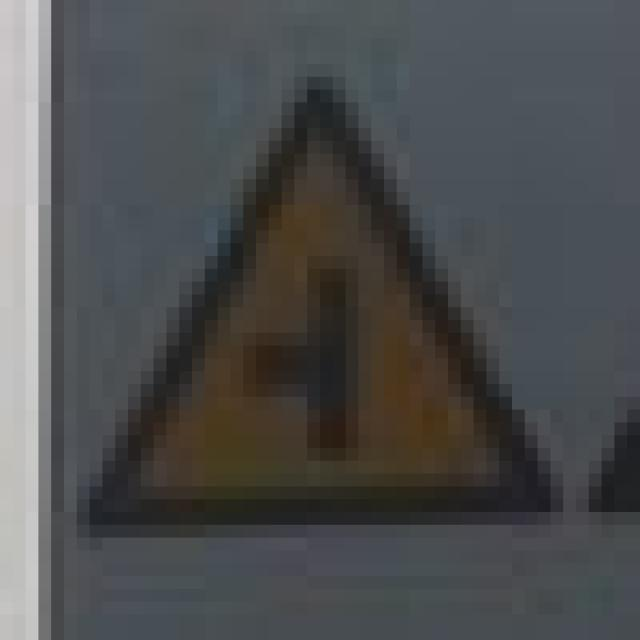side road left: (75, 75, 561, 524)
